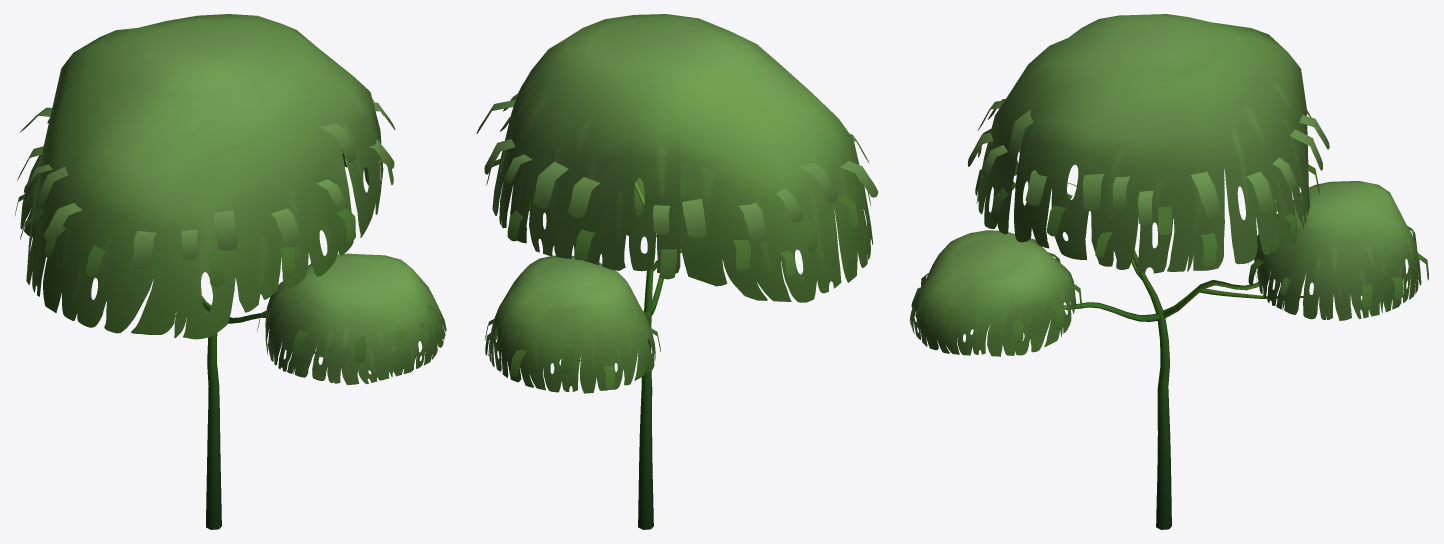
File: Tree2.fbx
3 renders of one model, left to right at view 1: azimuth 30°, elevation 25°; view 2: azimuth 150°, elevation 25°; view 3: azimuth 270°, elevation 25°, orthographic.
Parts seen in each view (by area): view 1: Leaves_Base, Leaf_up, Leaf_down, Trunk2; view 2: Leaves_Base, Leaf_up, Leaf_down, Trunk2; view 3: Leaves_Base, Leaf_up, Trunk2, Leaf_down.
Part boxes in pixels (x1=…): Leaves_Base: x1=20, y1=14, x2=446, y2=384; Leaf_up: x1=17, y1=99, x2=395, y2=268; Leaf_down: x1=15, y1=156, x2=438, y2=362; Trunk2: x1=202, y1=152, x2=342, y2=529; Leaves_Base: x1=488, y1=14, x2=872, y2=393; Leaf_up: x1=476, y1=83, x2=878, y2=242; Leaf_down: x1=484, y1=117, x2=870, y2=389; Trunk2: x1=580, y1=182, x2=681, y2=529; Leaves_Base: x1=909, y1=14, x2=1421, y2=356; Leaf_up: x1=967, y1=99, x2=1329, y2=226; Trunk2: x1=1063, y1=182, x2=1311, y2=529; Leaf_down: x1=911, y1=128, x2=1428, y2=342.
Size of the model in its own units: 503 by 666 by 647.
